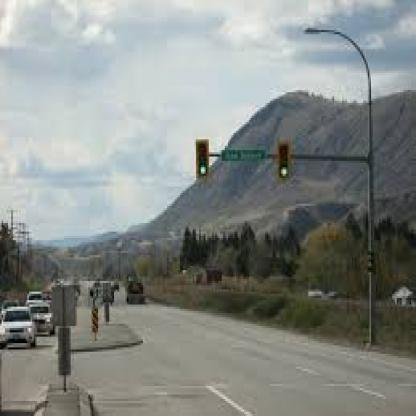car: (0, 297, 37, 355), (122, 275, 152, 310)
